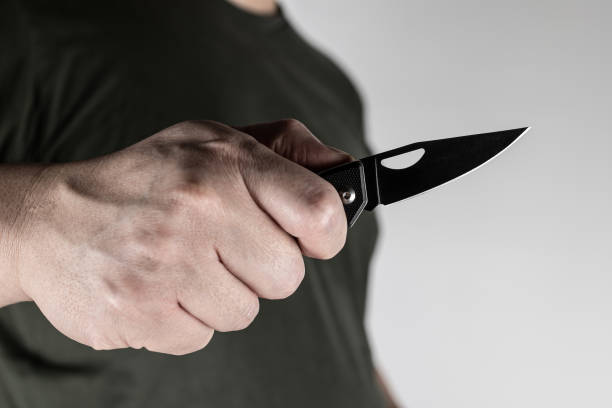knife: (314, 124, 532, 231)
